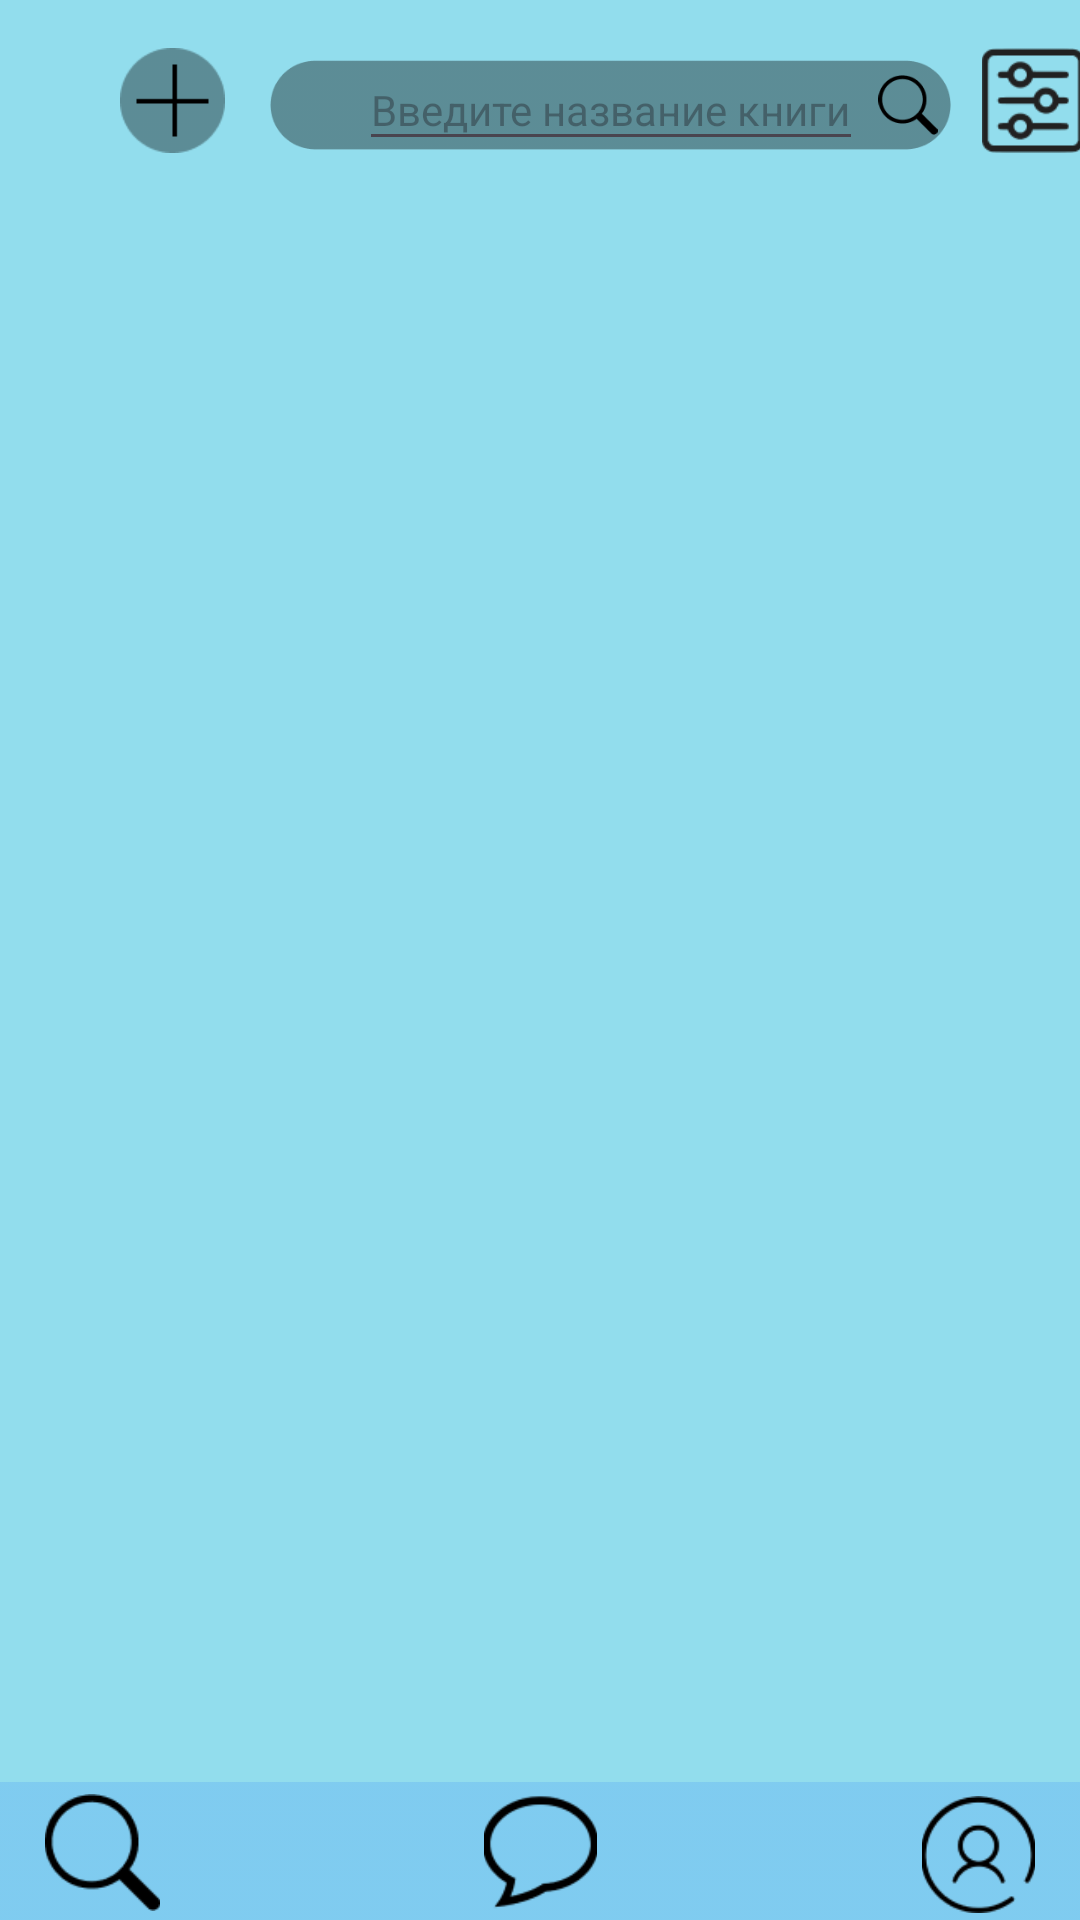

Named icons in this screenshot (1080x1920) and their centers, (x,y):
filterdeals: (1031,100)
messagemenu: (540,1851)
plus: (172,100)
profilemenu: (978,1854)
